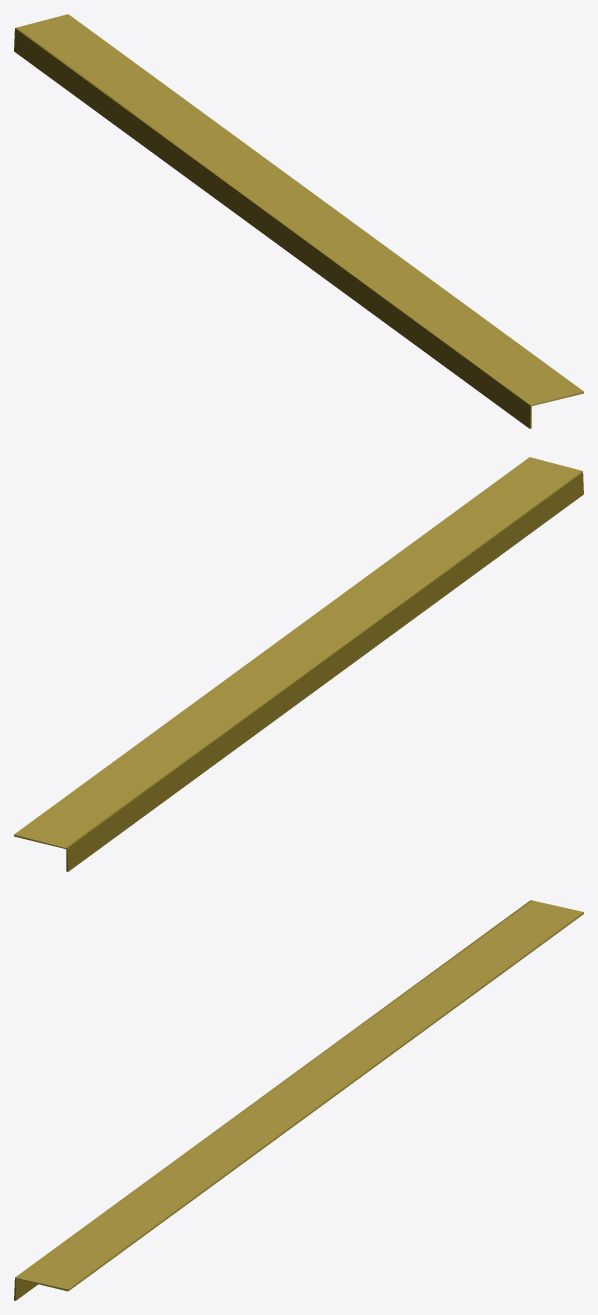
Rendered from Cot_Map3.fbx.
The picture shows the model from 3 angles, top to bottom: view 1: azimuth 30°, elevation 25°; view 2: azimuth 150°, elevation 25°; view 3: azimuth 330°, elevation 25°; orthographic projection.
Parts seen in each view (by area): view 1: Maitren2; view 2: Maitren2; view 3: Maitren2.
Boxes of the visible parts, x1,y1,x2,y2 form: Maitren2: [14, 14, 583, 428]; Maitren2: [14, 457, 583, 871]; Maitren2: [14, 900, 583, 1300].
Size of the model in its own units: 10.08 by 4.28 by 166.
